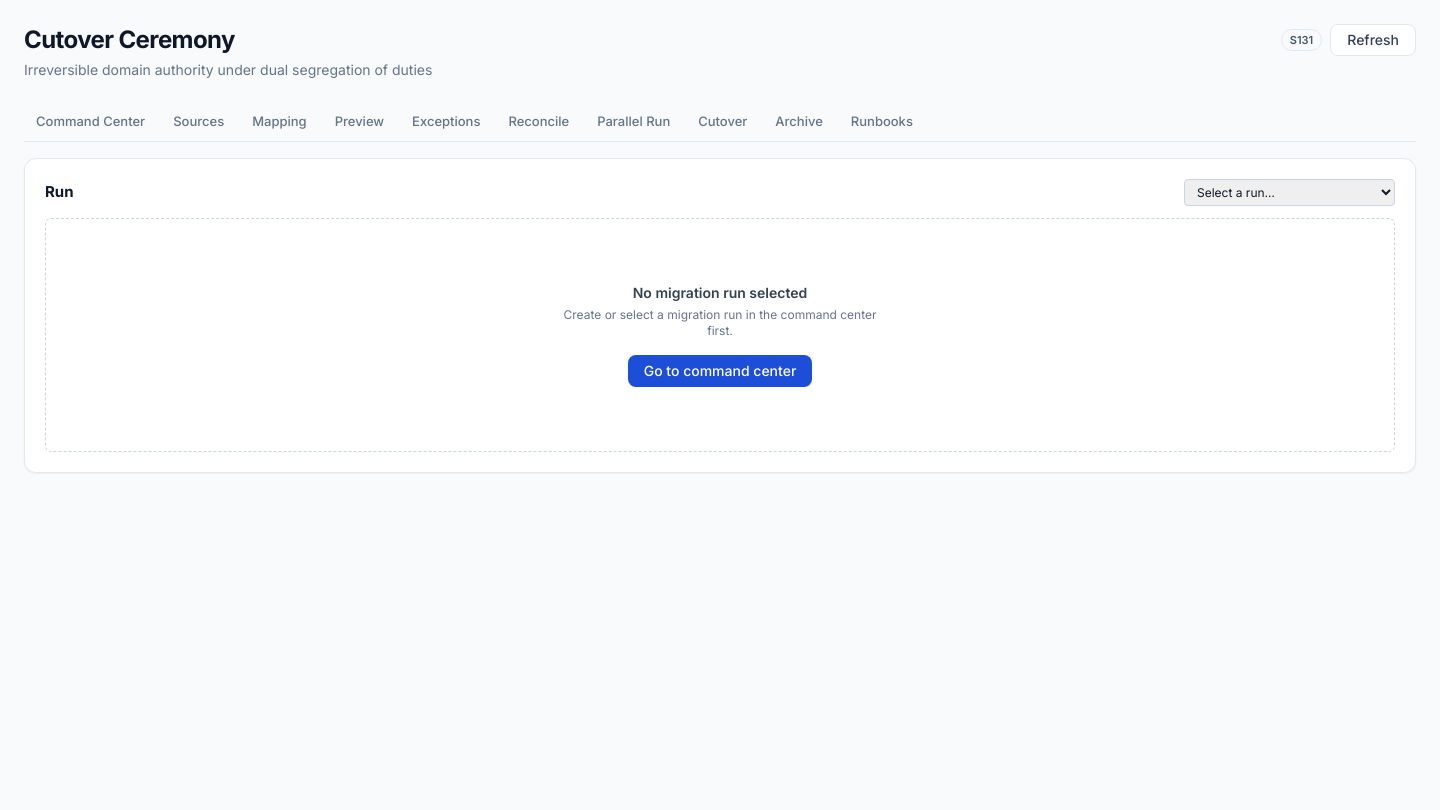
Test: MigrationCutover › presents a financial rollback as governed reversals with evidence preserved
Select "run-a · READY_FOR_CUTOVER" in the dropdown with test id "cutover-run-select". click: [1290, 192]
box: [1184,178,1395,206]
(page scrolled)
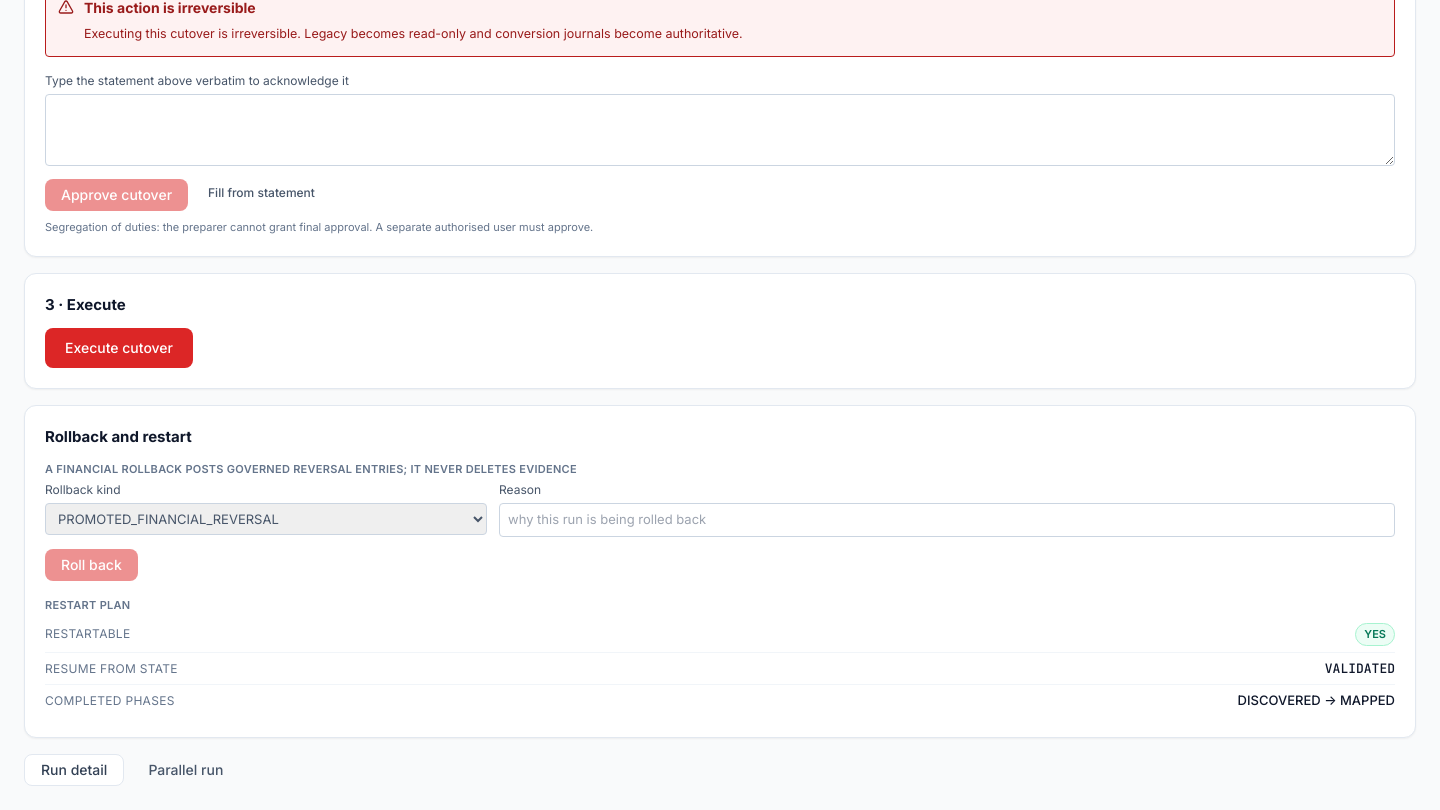
Check: the field with test id "rollback-reason-input" is shown
Type "conversion balances restated after review" into the field with test id "rollback-reason-input". click: [947, 520]
box: [499,503,1395,537]
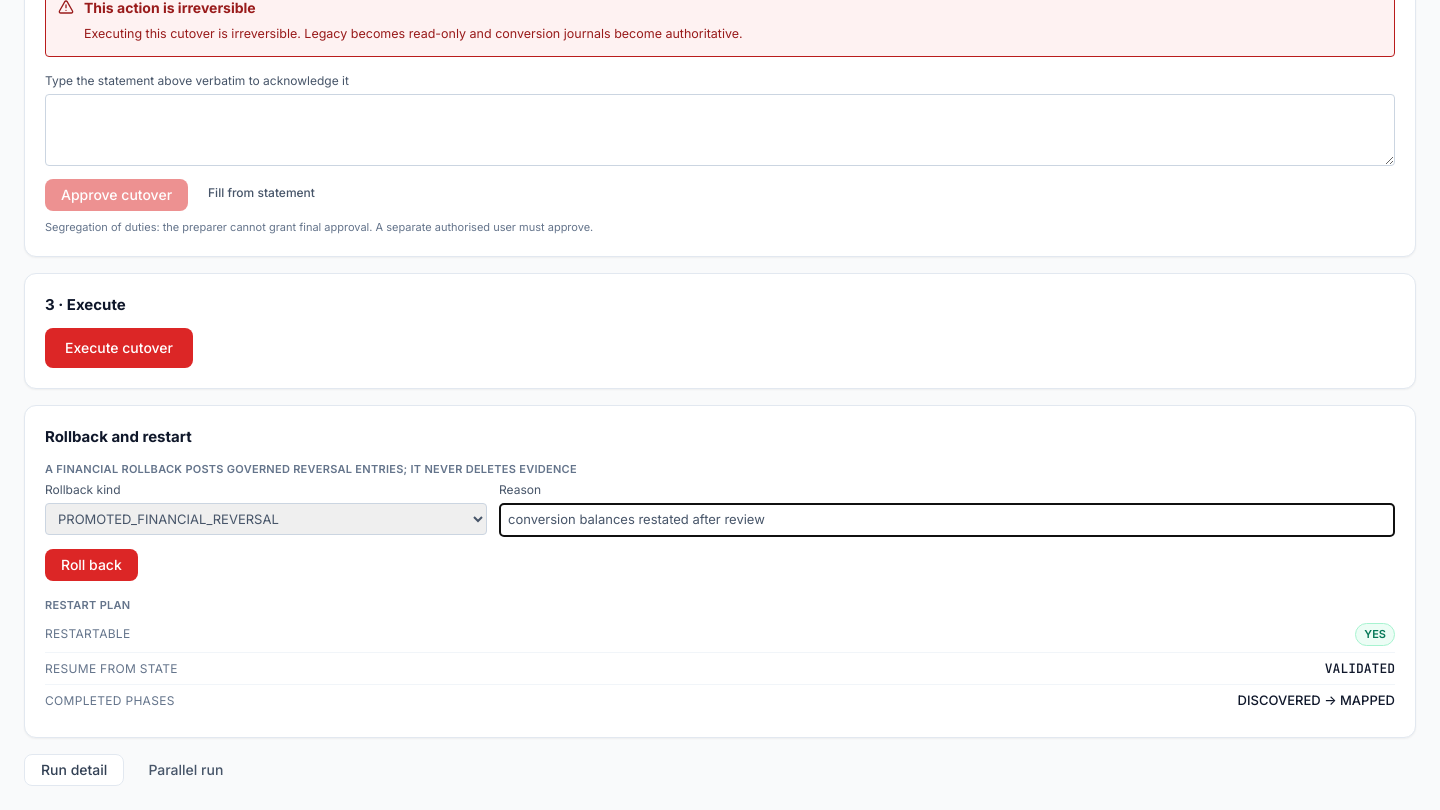
Click the button with test id "rollback-btn". click: [91, 565]
box: [45,549,138,581]
(page scrolled)
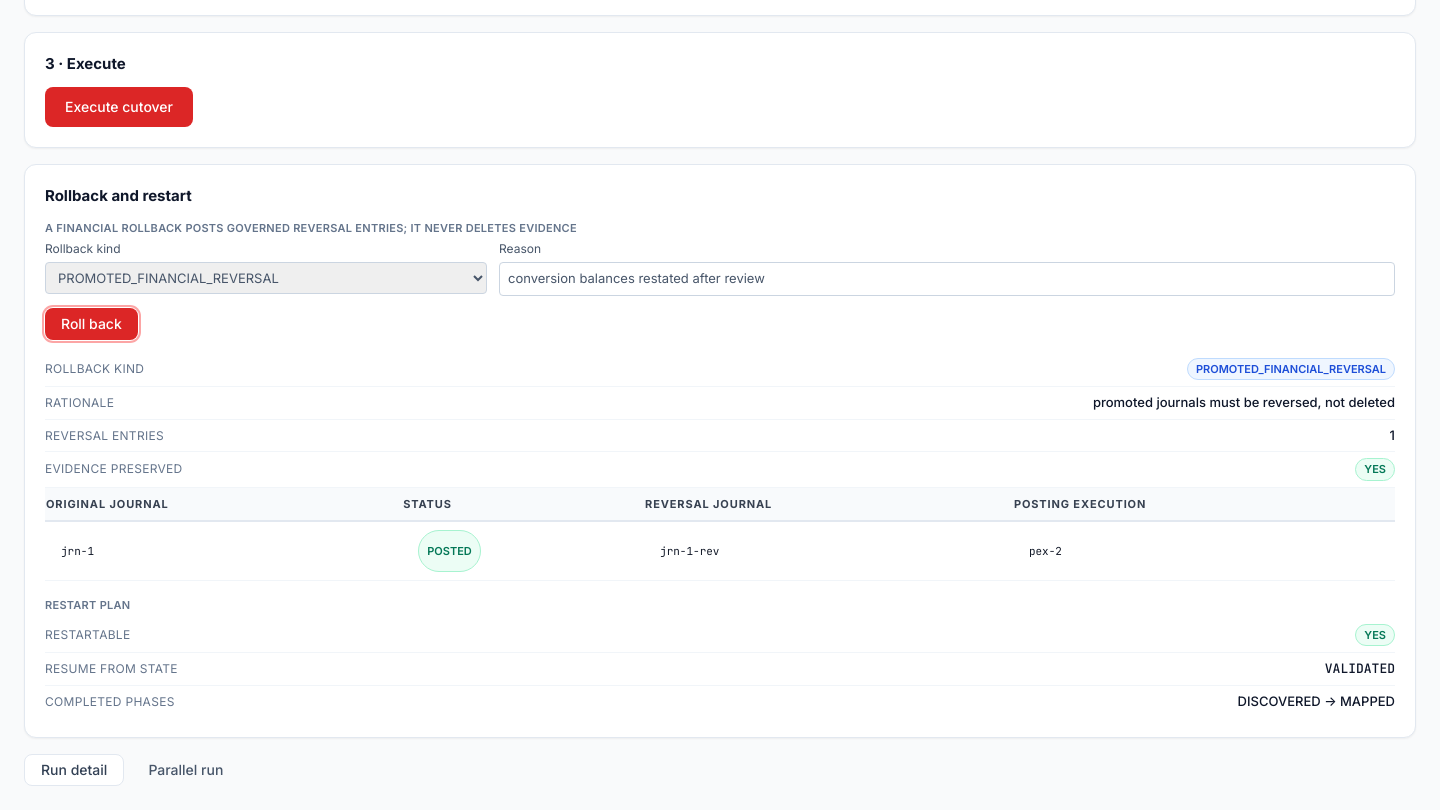
Check: the element with test id "rollback-result" is shown, box [45,352,1395,581]
Check: the text with test id "rollback-result-kind" reads "PROMOTED_FINANCIAL_REVERSAL", box [1196,362,1386,376]
Check: the text with test id "rollback-reversal-count" reads "1", box [1390,427,1395,443]
